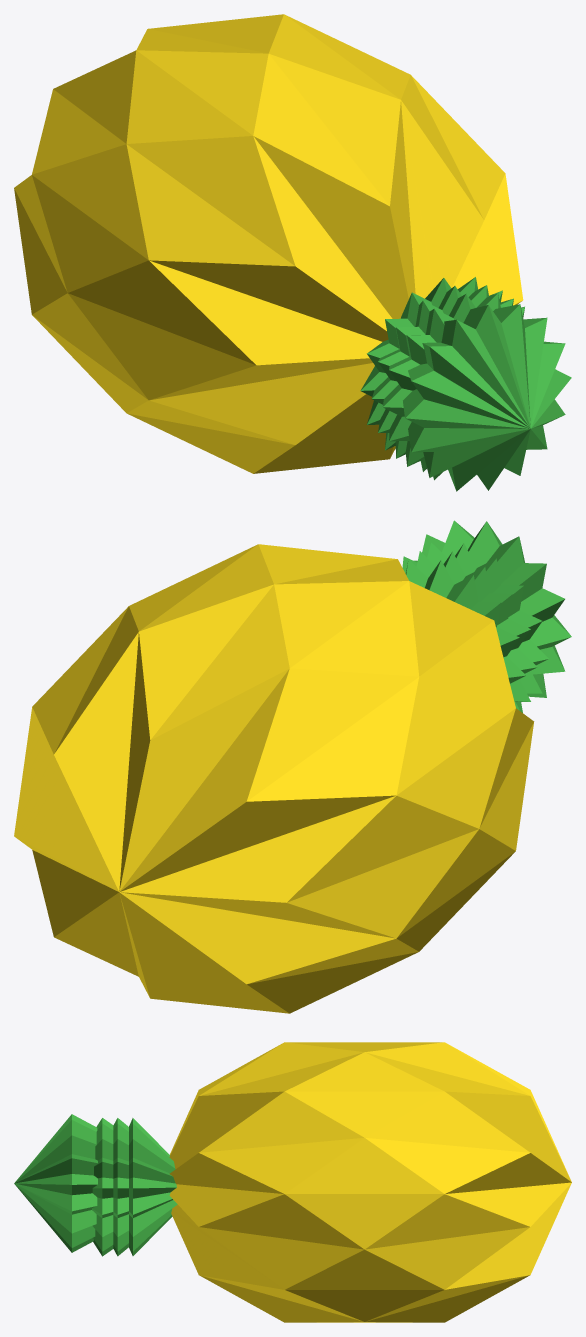
The model's file is tinker.obj.
The picture shows the model from 3 angles, top to bottom: view 1: azimuth 30°, elevation 25°; view 2: azimuth 150°, elevation 25°; view 3: azimuth 270°, elevation 25°; orthographic projection. The views are drawn at different scales.
Visible parts, largest first — view 1: group_0_16768282, group_0_4634441; view 2: group_0_16768282, group_0_4634441; view 3: group_0_16768282, group_0_4634441.
Part boxes in pixels (x1,y1,x2,y2): group_0_16768282: [14, 14, 523, 473]; group_0_4634441: [360, 277, 571, 491]; group_0_16768282: [14, 544, 534, 1013]; group_0_4634441: [402, 520, 571, 712]; group_0_16768282: [169, 1042, 571, 1322]; group_0_4634441: [14, 1114, 177, 1256].
Bounding box in the file's own units: 18 × 16.3 × 31.64.
